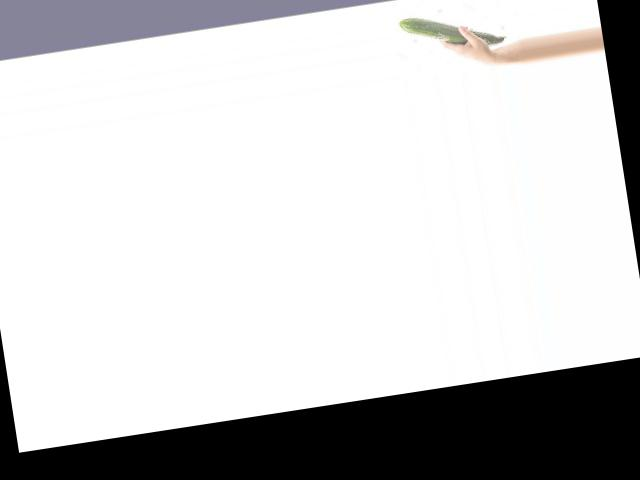cucumber: (398, 3, 508, 59)
